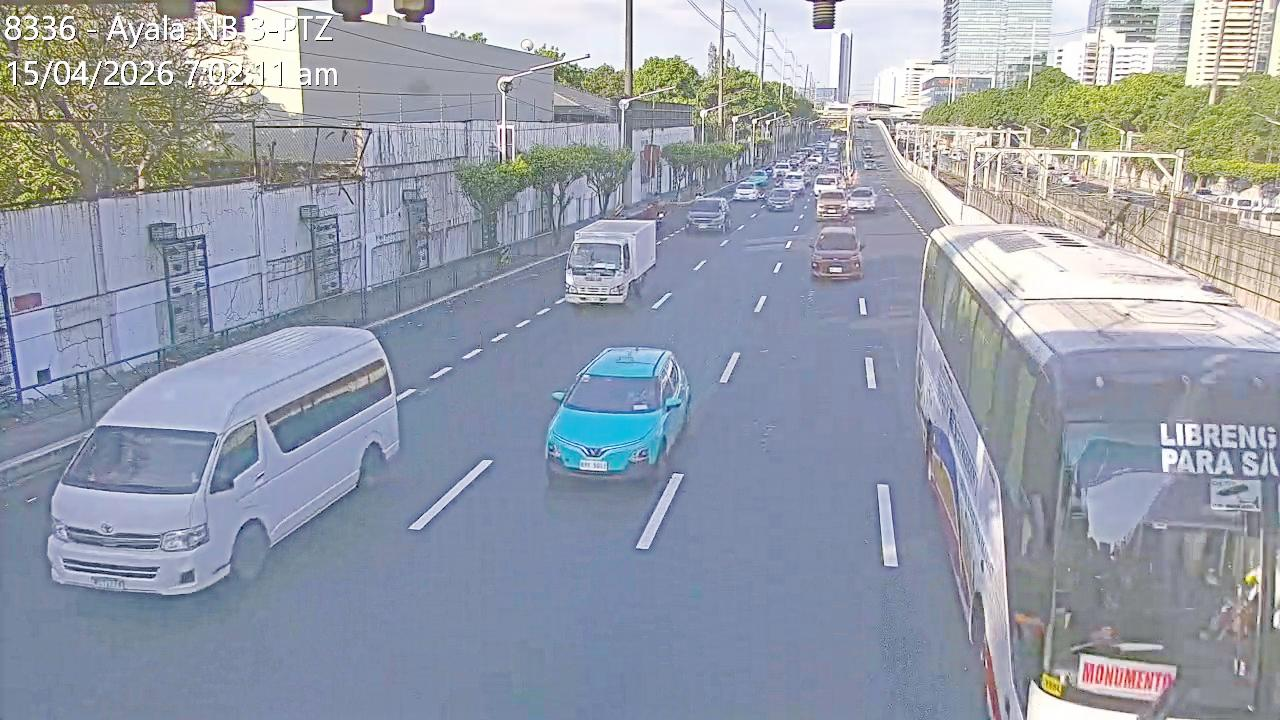Car: (54, 324, 396, 592), (543, 344, 690, 482), (807, 224, 863, 280), (684, 197, 730, 233), (813, 189, 850, 221), (846, 186, 877, 214), (765, 187, 797, 211), (780, 175, 805, 197)
Not Accident: (815, 184, 882, 226)
